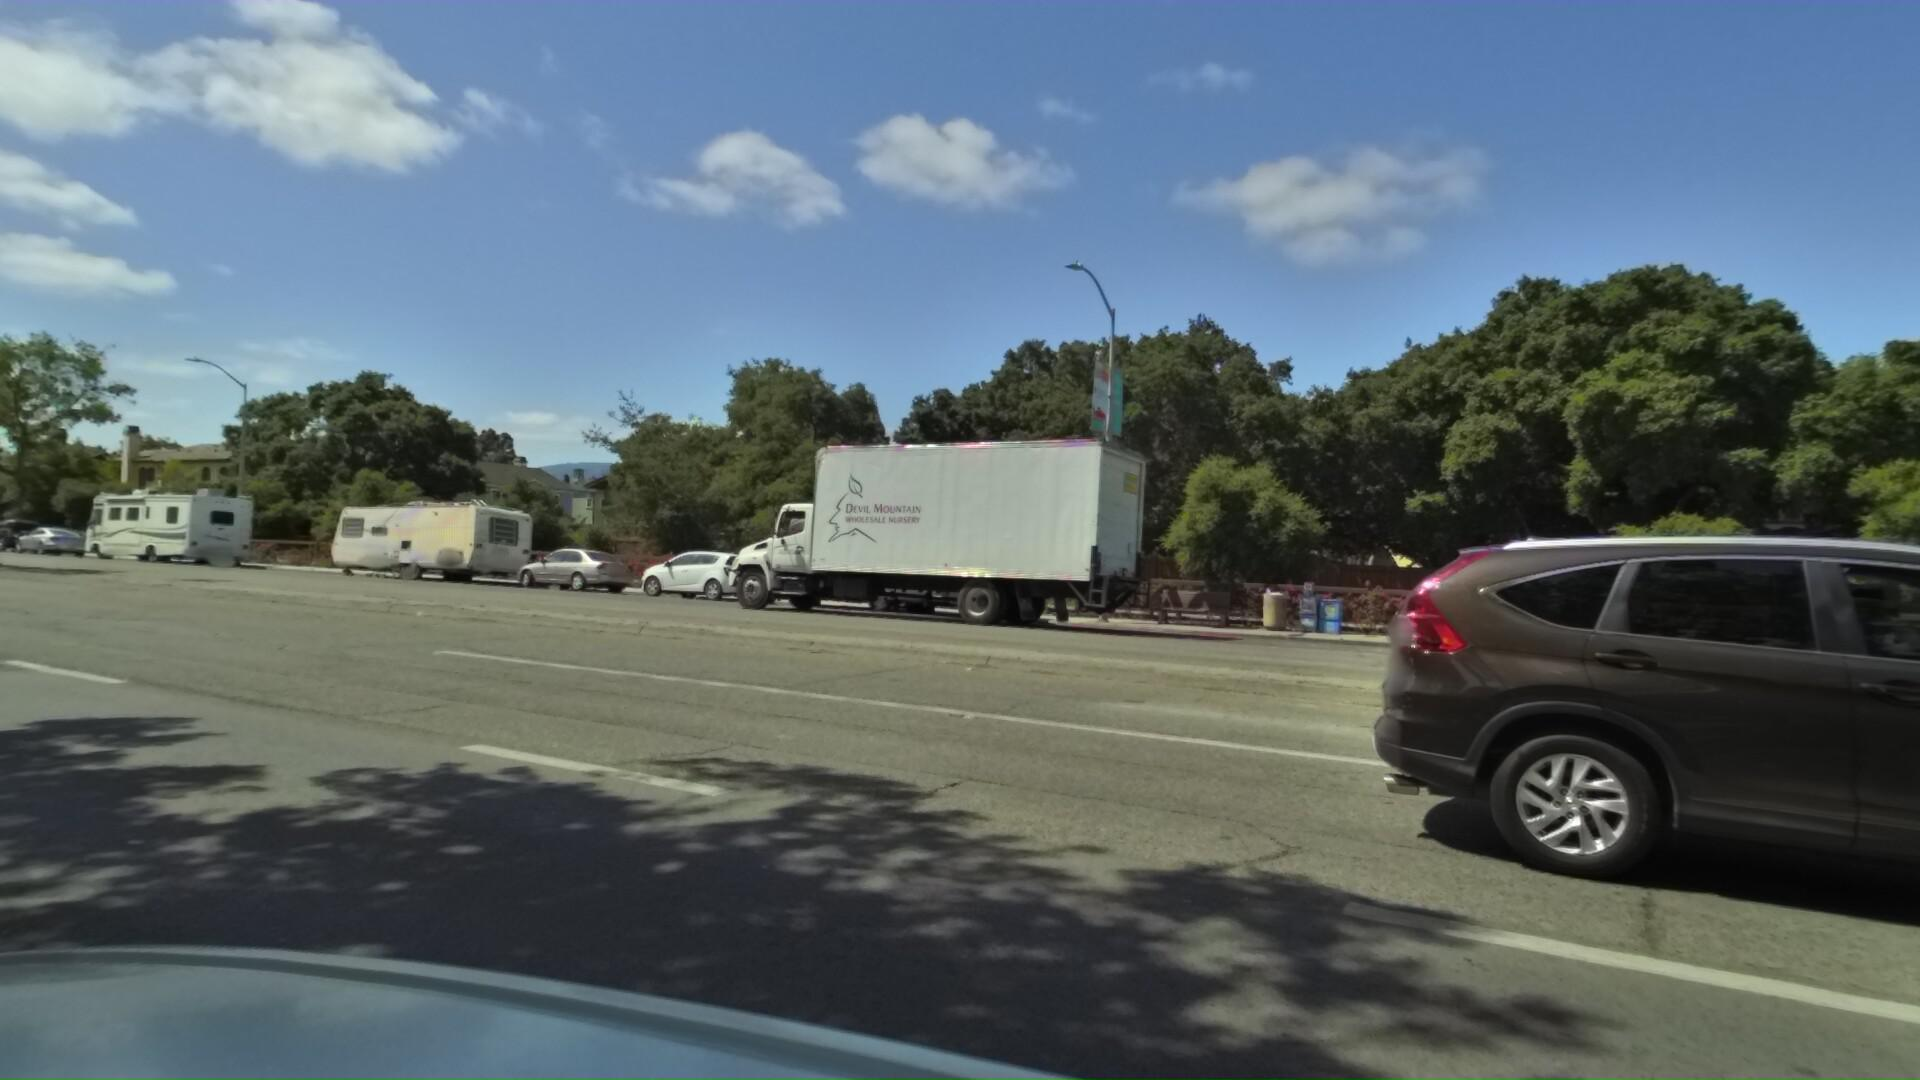car: (1418, 492, 1920, 1080), (632, 545, 766, 605), (506, 543, 638, 597), (13, 524, 99, 562), (0, 512, 61, 559)
other_vehicle: (724, 496, 1000, 622), (324, 491, 545, 587), (80, 480, 265, 578)
truck: (687, 430, 1145, 636)
